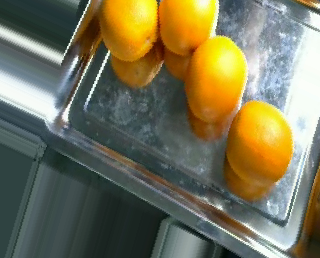Orange: (225, 99, 293, 183), (185, 35, 247, 124), (98, 1, 158, 62), (158, 1, 219, 53)
